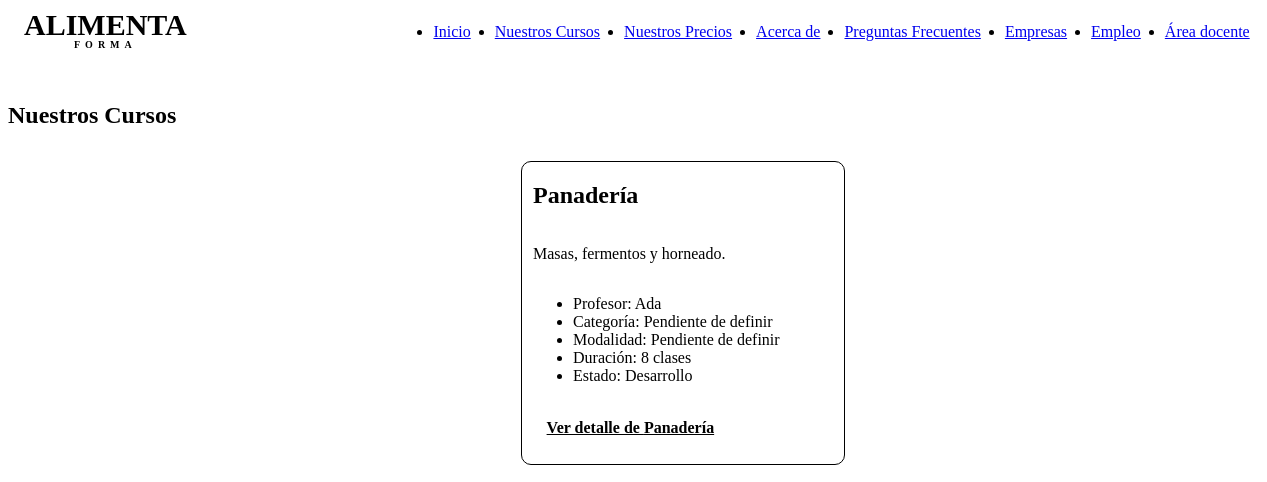
Test: recorridos del alumno › enlaza el catálogo con una ficha que expone los datos del curso
Click the link "Ver detalle de Panadería": (630, 428) [547,419,714,436]
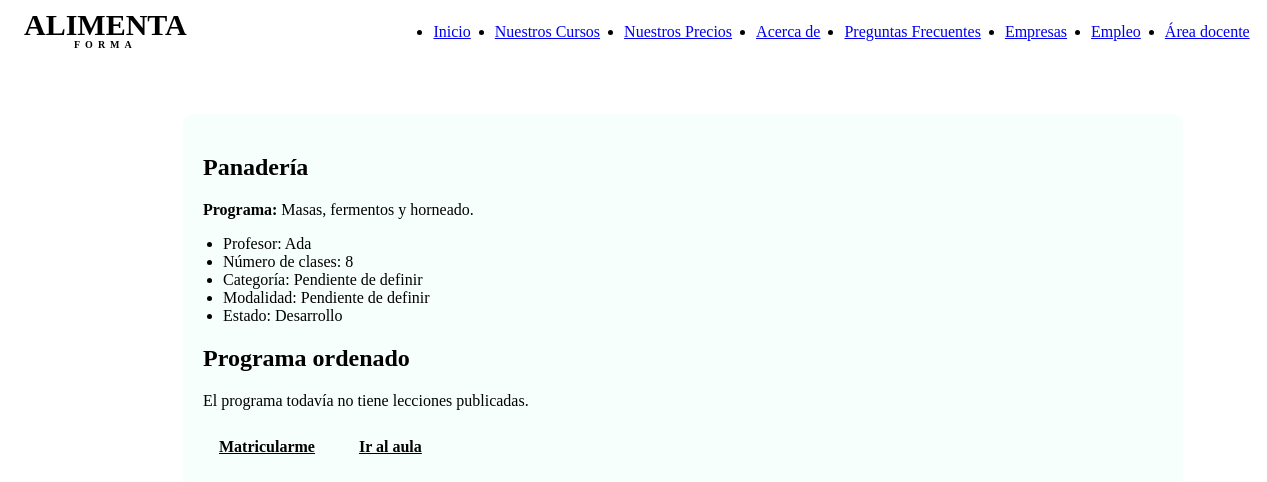
Expected: the heading "Panadería" is shown, [203,154,308,180]
Now the text "Programa: Masas, fermentos y horneado." is shown, box [203,201,474,218]
Now the list item "Número de clases: 8" is shown, box [223,253,353,270]
